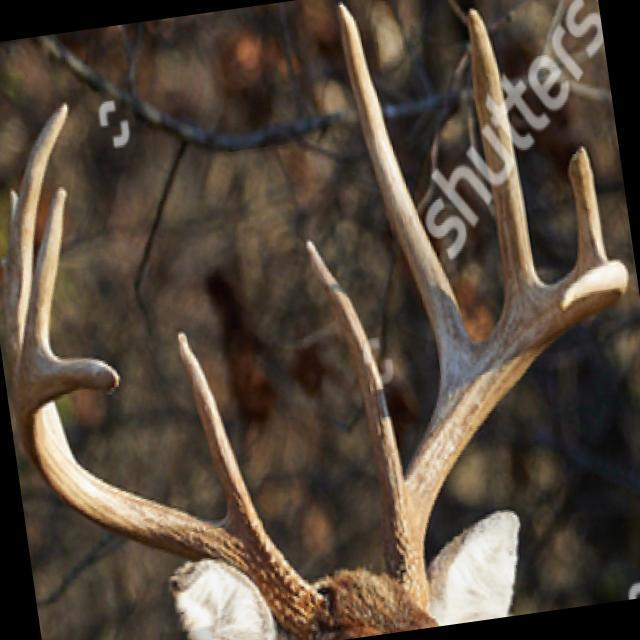L-F: (381, 268, 625, 613)
L-G1: (302, 236, 405, 511)
L-G2: (335, 0, 477, 397)
L-G3: (464, 4, 544, 304)
L-G4: (567, 144, 609, 269)
R-G1: (172, 327, 272, 538)
R-G2: (30, 351, 124, 417)
R-G3: (22, 180, 70, 353)
R-G4: (1, 94, 71, 401)
